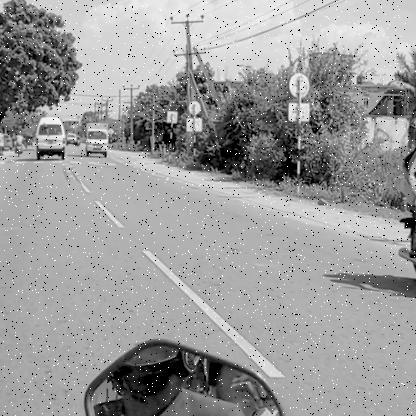motorcycle: (391, 186, 416, 311)
